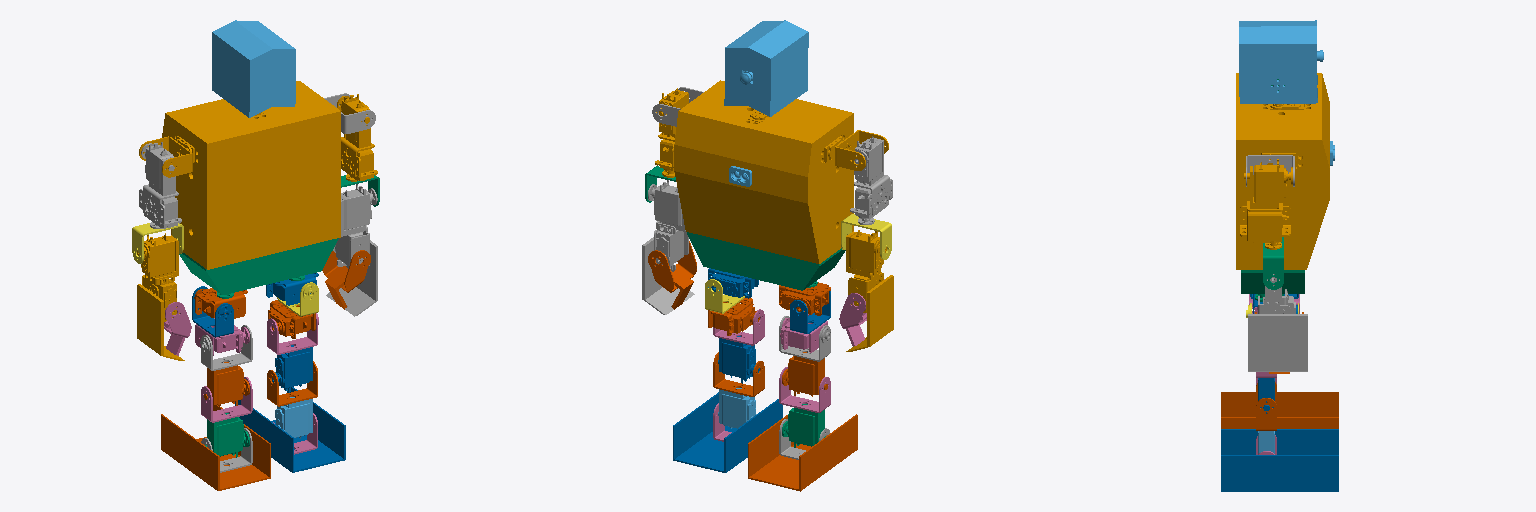
--- Render facts (derived) ---
3 views of the same robot in one strip: view 1: azimuth 30°, elevation 25°; view 2: azimuth 150°, elevation 25°; view 3: azimuth 270°, elevation 25° (orthographic).
Model rmis with 49 links and 48 joints (22 revolute, 26 fixed), rooted at base_link, posed every joint at zero.
Links seen in each view (by area): view 1: base_link, camera_link, lower_body_link, l_lower_arm_link, l_feet_link, r_lower_arm_link, r_feet_link, l_lower_shoulder_link, r_lower_shoulder_upper_link, r_hand_link, l_lower_leg_inner_link, r_lower_leg_inner_link (+17 smaller); view 2: base_link, camera_link, l_feet_link, r_feet_link, lower_body_link, l_lower_arm_link, r_lower_arm_link, l_lower_shoulder_link, r_hand_link, l_lower_leg_inner_link, l_upper_ankle_link, r_lower_leg_inner_link (+16 smaller); view 3: base_link, r_feet_link, camera_link, r_lower_arm_link, l_feet_link, r_lower_shoulder_upper_link, lower_body_link, r_upper_arm_link, r_lower_leg_outer_link, r_upper_shoulder_link.
Link boxes in pixels (left/top/right/bottom): base_link: left=162, top=81, right=340, bottom=269; camera_link: left=212, top=20, right=295, bottom=117; lower_body_link: left=179, top=238, right=338, bottom=298; l_lower_arm_link: left=137, top=233, right=184, bottom=360; l_feet_link: left=161, top=405, right=270, bottom=490; r_lower_arm_link: left=326, top=184, right=377, bottom=316; r_feet_link: left=235, top=387, right=345, bottom=472; l_lower_shoulder_link: left=139, top=142, right=181, bottom=228; r_lower_shoulder_upper_link: left=337, top=94, right=377, bottom=181; r_hand_link: left=322, top=250, right=370, bottom=309; l_lower_leg_inner_link: left=204, top=362, right=249, bottom=406; r_lower_leg_inner_link: left=272, top=345, right=312, bottom=392; base_link: left=674, top=80, right=853, bottom=263; camera_link: left=724, top=20, right=808, bottom=116; l_feet_link: left=748, top=414, right=857, bottom=491; r_feet_link: left=673, top=392, right=782, bottom=472; lower_body_link: left=687, top=232, right=845, bottom=290; l_lower_arm_link: left=846, top=230, right=893, bottom=351; r_lower_arm_link: left=642, top=180, right=694, bottom=314; l_lower_shoulder_link: left=850, top=136, right=892, bottom=224; r_hand_link: left=648, top=241, right=696, bottom=309; l_lower_leg_inner_link: left=782, top=352, right=827, bottom=396; l_upper_ankle_link: left=782, top=404, right=825, bottom=447; r_lower_leg_inner_link: left=718, top=336, right=759, bottom=383; base_link: left=1236, top=73, right=1329, bottom=269; r_feet_link: left=1221, top=429, right=1338, bottom=491; camera_link: left=1239, top=20, right=1323, bottom=103; r_lower_arm_link: left=1248, top=274, right=1307, bottom=371; l_feet_link: left=1221, top=392, right=1338, bottom=428; r_lower_shoulder_upper_link: left=1240, top=159, right=1292, bottom=249; lower_body_link: left=1241, top=270, right=1304, bottom=301; r_upper_arm_link: left=1263, top=237, right=1283, bottom=289; r_lower_leg_outer_link: left=1256, top=382, right=1276, bottom=430; r_upper_shoulder_link: left=1246, top=155, right=1294, bottom=186.
Bounding box of the posed robot: 3.22 × 1.35 × 5.47 m (x, y, z).
Meshes: 34 distinct files referenced, 34 mesh visuals loaded (34 binary STL).

robot.urdf — rmis:
<robot name="rmis" version="1.0">
  <joint name="camera_link_joint" type="fixed">
    <origin rpy="0.00000 0.00000 1.57080" xyz="-0.00027 0.51877 -0.01898"/>
    <parent link="head_outer_link"/>
    <child link="camera_link"/>
  </joint>
  <joint name="head_inner_link_joint" type="revolute">
    <dynamics damping="0.50000"/>
    <limit lower="-0.40000" upper="0.40000" effort="1.20000" velocity="1.00000"/>
    <origin rpy="-1.57080 -1.57080 1.57080" xyz="-0.53928 0.10308 0.14213"/>
    <parent link="neck_link"/>
    <child link="head_inner_link"/>
    <axis xyz="0.00000 0.00000 1.00000"/>
  </joint>
  <joint name="head_outer_link_joint" type="fixed">
    <origin rpy="1.57080 1.57080 1.57080" xyz="0.24166 -0.01105 -0.24237"/>
    <parent link="head_inner_link"/>
    <child link="head_outer_link"/>
  </joint>
  <joint name="imu_link_joint" type="fixed">
    <origin rpy="0.00000 0.00000 1.57080" xyz="0.21039 -0.34355 -1.01118"/>
    <parent link="base_link"/>
    <child link="imu_link"/>
  </joint>
  <joint name="l_feet_link_joint" type="fixed">
    <origin rpy="-1.57080 -1.57080 1.57080" xyz="0.29534 0.15614 -0.36302"/>
    <parent link="l_lower_ankle_link"/>
    <child link="l_feet_link"/>
  </joint>
  <joint name="l_hand_link_joint" type="fixed">
    <origin rpy="-1.57080 0.00000 -0.00000" xyz="0.08578 -0.25941 -0.27318"/>
    <parent link="l_lower_arm_lower_link"/>
    <child link="l_hand_link"/>
  </joint>
  <joint name="l_lower_ankle_link_joint" type="revolute">
    <dynamics damping="0.50000"/>
    <limit lower="-0.30000" upper="0.65000" effort="1.20000" velocity="1.00000"/>
    <origin rpy="0.00000 1.57080 0.00000" xyz="0.25524 0.00032 -0.17729"/>
    <parent link="l_upper_ankle_link"/>
    <child link="l_lower_ankle_link"/>
    <axis xyz="0.00000 0.00000 1.00000"/>
  </joint>
  <joint name="l_lower_arm_link_joint" type="fixed">
    <origin rpy="1.57080 1.57080 1.57080" xyz="-0.51082 -0.04756 -0.25313"/>
    <parent link="l_lower_arm_upper_link"/>
    <child link="l_lower_arm_link"/>
  </joint>
  <joint name="l_lower_arm_lower_link_joint" type="revolute">
    <dynamics damping="0.10000"/>
    <limit lower="0.00000" upper="0.65000" effort="1.20000" velocity="0.00000"/>
    <origin rpy="1.57080 -0.00000 0.00000" xyz="0.02708 -0.30471 -0.17737"/>
    <parent link="l_lower_arm_link"/>
    <child link="l_lower_arm_lower_link"/>
    <axis xyz="0.00000 0.00000 1.00000"/>
  </joint>
  <joint name="l_lower_arm_upper_link_joint" type="revolute">
    <dynamics damping="0.50000"/>
    <limit lower="-1.57000" upper="1.57000" effort="1.20000" velocity="1.00000"/>
    <origin rpy="-1.57080 -1.57080 0.00000" xyz="0.00000 0.40875 -0.26539"/>
    <parent link="l_upper_arm_link"/>
    <child link="l_lower_arm_upper_link"/>
    <axis xyz="0.00000 0.00000 1.00000"/>
  </joint>
  <joint name="l_lower_body_link_joint" type="revolute">
    <dynamics damping="0.50000"/>
    <limit lower="-0.30000" upper="0.30000" effort="1.20000" velocity="1.00000"/>
    <origin rpy="3.14159 -0.00000 3.14159" xyz="-0.43474 -0.11124 -0.22114"/>
    <parent link="lower_body_link"/>
    <child link="l_lower_body_link"/>
    <axis xyz="0.00000 0.00000 1.00000"/>
  </joint>
  <joint name="l_lower_hip_link_joint" type="revolute">
    <dynamics damping="0.50000"/>
    <limit lower="0.00000" upper="0.65000" effort="1.20000" velocity="1.00000"/>
    <origin rpy="-1.57080 0.00000 0.00000" xyz="-0.17610 0.18793 -0.02809"/>
    <parent link="l_upper_hip_link"/>
    <child link="l_lower_hip_link"/>
    <axis xyz="0.00000 0.00000 1.00000"/>
  </joint>
  <joint name="l_lower_leg_inner_link_joint" type="fixed">
    <origin rpy="-1.57080 -1.57080 1.57080" xyz="0.48106 -0.00032 -0.25524"/>
    <parent link="l_upper_leg_outer_link"/>
    <child link="l_lower_leg_inner_link"/>
  </joint>
  <joint name="l_lower_leg_outer_link_joint" type="revolute">
    <dynamics damping="0.50000"/>
    <limit lower="-1.57000" upper="1.57000" effort="1.20000" velocity="1.00000"/>
    <origin rpy="1.57080 1.57080 1.57080" xyz="0.25524 0.00032 -0.18870"/>
    <parent link="l_lower_leg_inner_link"/>
    <child link="l_lower_leg_outer_link"/>
    <axis xyz="0.00000 0.00000 1.00000"/>
  </joint>
  <joint name="l_lower_shoulder_link_joint" type="fixed">
    <origin rpy="1.57080 -0.00000 -0.00000" xyz="0.01024 0.62216 -0.27345"/>
    <parent link="l_lower_shoulder_upper_link"/>
    <child link="l_lower_shoulder_link"/>
  </joint>
  <joint name="l_lower_shoulder_lower_link_joint" type="revolute">
    <dynamics damping="0.50000"/>
    <limit lower="-1.57000" upper="1.57000" effort="1.20000" velocity="1.00000"/>
    <origin rpy="-3.14159 -0.00000 3.14159" xyz="-0.00763 0.06271 -0.24482"/>
    <parent link="l_lower_shoulder_link"/>
    <child link="l_lower_shoulder_lower_link"/>
    <axis xyz="0.00000 0.00000 1.00000"/>
  </joint>
  <joint name="l_lower_shoulder_upper_link_joint" type="revolute">
    <dynamics damping="0.50000"/>
    <limit lower="0.00000" upper="1.57000" effort="1.20000" velocity="1.00000"/>
    <origin rpy="-1.57080 0.00000 -0.00000" xyz="-0.15786 0.25015 0.00000"/>
    <parent link="l_upper_shoulder_link"/>
    <child link="l_lower_shoulder_upper_link"/>
    <axis xyz="0.00000 0.00000 1.00000"/>
  </joint>
  <joint name="l_upper_ankle_link_joint" type="fixed">
    <origin rpy="1.57079 -1.57080 -1.57080" xyz="0.49218 -0.00032 -0.25524"/>
    <parent link="l_lower_leg_outer_link"/>
    <child link="l_upper_ankle_link"/>
  </joint>
  <joint name="l_upper_arm_link_joint" type="fixed">
    <dynamics damping="0.10000"/>
    <origin rpy="3.14159 0.00000 1.57080" xyz="-0.15525 0.00109 0.04879"/>
    <parent link="l_lower_shoulder_lower_link"/>
    <child link="l_upper_arm_link"/>
  </joint>
  <joint name="l_upper_body_link_joint" type="revolute">
    <dynamics damping="0.50000"/>
    <limit lower="-2.00000" upper="2.00000" effort="1.20000" velocity="1.00000"/>
    <origin rpy="0.00000 -1.57080 0.00000" xyz="-1.02542 -0.10845 0.50152"/>
    <parent link="base_link"/>
    <child link="l_upper_body_link"/>
    <axis xyz="0.00000 0.00000 1.00000"/>
  </joint>
  <joint name="l_upper_hip_link_joint" type="fixed">
    <origin rpy="-3.14159 0.00000 3.14159" xyz="-0.08125 0.19501 0.16258"/>
    <parent link="l_lower_body_link"/>
    <child link="l_upper_hip_link"/>
  </joint>
  <joint name="l_upper_leg_inner_link_joint" type="fixed">
    <origin rpy="1.57080 0.00000 -0.00000" xyz="0.23325 0.42698 -0.25846"/>
    <parent link="l_lower_hip_link"/>
    <child link="l_upper_leg_inner_link"/>
  </joint>
  <joint name="l_upper_leg_outer_link_joint" type="revolute">
    <dynamics damping="0.50000"/>
    <limit lower="-1.57000" upper="1.57000" effort="1.20000" velocity="1.00000"/>
    <origin rpy="0.00000 1.57080 0.00000" xyz="0.14920 -0.09581 -0.02392"/>
    <parent link="l_upper_leg_inner_link"/>
    <child link="l_upper_leg_outer_link"/>
    <axis xyz="0.00000 0.00000 1.00000"/>
  </joint>
  <joint name="l_upper_shoulder_link_joint" type="fixed">
    <dynamics damping="0.10000"/>
    <origin rpy="1.64773 1.57080 1.64773" xyz="0.00314 0.00023 0.15035"/>
    <parent link="l_upper_body_link"/>
    <child link="l_upper_shoulder_link"/>
  </joint>
  <joint name="lidar_link_joint" type="fixed">
    <origin rpy="0.00000 0.00000 0.00000" xyz="0.15210 0.54325 0.16884"/>
    <parent link="base_link"/>
    <child link="lidar_link"/>
  </joint>
  <joint name="lower_body_link_joint" type="fixed">
    <origin rpy="-0.00000 -0.00000 0.00000" xyz="-0.04942 -0.07242 -1.16532"/>
    <parent link="base_link"/>
    <child link="lower_body_link"/>
  </joint>
  <joint name="neck_link_joint" type="fixed">
    <origin rpy="0.00000 0.00000 0.00000" xyz="0.29394 -0.10231 0.17455"/>
    <parent link="u_upper_body_link"/>
    <child link="neck_link"/>
  </joint>
  <joint name="r_feet_link_joint" type="fixed">
    <origin rpy="1.57080 1.57080 1.57080" xyz="-0.29184 0.16032 -0.38614"/>
    <parent link="r_lower_ankle_link"/>
    <child link="r_feet_link"/>
  </joint>
  <joint name="r_hand_link_joint" type="fixed">
    <origin rpy="1.57080 -0.00000 -0.00000" xyz="-0.09662 0.29431 -0.27653"/>
    <parent link="r_lower_arm_lower_link"/>
    <child link="r_hand_link"/>
  </joint>
  <joint name="r_lower_ankle_link_joint" type="revolute">
    <dynamics damping="0.50000"/>
    <limit lower="-0.65000" upper="0.30000" effort="1.20000" velocity="1.00000"/>
    <origin rpy="-0.00000 -1.57080 0.00000" xyz="-0.28932 -0.00553 -0.08191"/>
    <parent link="r_upper_ankle_link"/>
    <child link="r_lower_ankle_link"/>
    <axis xyz="0.00000 0.00000 1.00000"/>
  </joint>
  <joint name="r_lower_arm_link_joint" type="fixed">
    <origin rpy="-1.57080 -1.57080 1.57080" xyz="0.57212 0.03274 -0.28788"/>
    <parent link="r_lower_arm_upper_link"/>
    <child link="r_lower_arm_link"/>
  </joint>
  <joint name="r_lower_arm_lower_link_joint" type="revolute">
    <dynamics damping="0.50000"/>
    <limit lower="0.00000" upper="0.65000" effort="1.20000" velocity="1.00000"/>
    <origin rpy="-1.57080 -0.00000 0.00000" xyz="-0.00892 0.31225 -0.11501"/>
    <parent link="r_lower_arm_link"/>
    <child link="r_lower_arm_lower_link"/>
    <axis xyz="0.00000 0.00000 1.00000"/>
  </joint>
  <joint name="r_lower_arm_upper_link_joint" type="revolute">
    <dynamics damping="0.50000"/>
    <limit lower="-1.57000" upper="1.57000" effort="1.20000" velocity="1.00000"/>
    <origin rpy="0.00000 1.57080 0.00000" xyz="0.42891 0.03944 -0.18506"/>
    <parent link="r_upper_arm_link"/>
    <child link="r_lower_arm_upper_link"/>
    <axis xyz="0.00000 0.00000 1.00000"/>
  </joint>
  <joint name="r_lower_body_link_joint" type="revolute">
    <dynamics damping="0.50000"/>
    <limit lower="-0.30000" upper="0.30000" effort="1.20000" velocity="1.00000"/>
    <origin rpy="3.14159 -0.00000 3.14159" xyz="0.53339 -0.11124 -0.22114"/>
    <parent link="lower_body_link"/>
    <child link="r_lower_body_link"/>
    <axis xyz="0.00000 0.00000 1.00000"/>
  </joint>
  <joint name="r_lower_hip_link_joint" type="revolute">
    <dynamics damping="0.50000"/>
    <limit lower="-0.65000" upper="0.00000" effort="1.20000" velocity="1.00000"/>
    <origin rpy="-1.57080 0.00000 -0.00000" xyz="0.09774 0.24708 -0.04110"/>
    <parent link="r_upper_hip_link"/>
    <child link="r_lower_hip_link"/>
    <axis xyz="0.00000 0.00000 1.00000"/>
  </joint>
  <joint name="r_lower_leg_inner_link_joint" type="fixed">
    <origin rpy="-1.57079 1.57080 -1.57080" xyz="-0.50982 0.00553 -0.28932"/>
    <parent link="r_upper_leg_outer_link"/>
    <child link="r_lower_leg_inner_link"/>
  </joint>
  <joint name="r_lower_leg_outer_link_joint" type="revolute">
    <dynamics damping="0.50000"/>
    <limit lower="-1.57000" upper="1.57000" effort="1.20000" velocity="1.00000"/>
    <origin rpy="-0.00000 -1.57080 0.00000" xyz="-0.28933 -0.00553 -0.15922"/>
    <parent link="r_lower_leg_inner_link"/>
    <child link="r_lower_leg_outer_link"/>
    <axis xyz="0.00000 0.00000 1.00000"/>
  </joint>
  <joint name="r_lower_shoulder_link_joint" type="fixed">
    <origin rpy="1.57080 0.00000 0.00000" xyz="0.01117 0.47331 -0.27353"/>
    <parent link="r_lower_shoulder_upper_link"/>
    <child link="r_lower_shoulder_link"/>
  </joint>
  <joint name="r_lower_shoulder_lower_link_joint" type="revolute">
    <dynamics damping="0.50000"/>
    <limit lower="-1.57000" upper="1.57000" effort="1.20000" velocity="1.00000"/>
    <origin rpy="-3.14159 -0.00000 3.14159" xyz="-0.00476 0.06341 -0.39192"/>
    <parent link="r_lower_shoulder_link"/>
    <child link="r_lower_shoulder_lower_link"/>
    <axis xyz="0.00000 0.00000 1.00000"/>
  </joint>
  <joint name="r_lower_shoulder_upper_link_joint" type="revolute">
    <dynamics damping="0.50000"/>
    <limit lower="-1.57000" upper="0.00000" effort="1.20000" velocity="1.00000"/>
    <origin rpy="-1.57080 0.00000 0.00000" xyz="0.14724 0.25015 -0.00175"/>
    <parent link="r_upper_shoulder_link"/>
    <child link="r_lower_shoulder_upper_link"/>
    <axis xyz="0.00000 0.00000 1.00000"/>
  </joint>
  <joint name="r_upper_ankle_link_joint" type="fixed">
    <origin rpy="1.57080 1.57080 1.57080" xyz="-0.58812 0.00553 -0.28932"/>
    <parent link="r_lower_leg_outer_link"/>
    <child link="r_upper_ankle_link"/>
  </joint>
  <joint name="r_upper_arm_link_joint" type="fixed">
    <origin rpy="-3.14159 0.00000 3.14159" xyz="0.15365 -0.04003 0.13018"/>
    <parent link="r_lower_shoulder_lower_link"/>
    <child link="r_upper_arm_link"/>
  </joint>
  <joint name="r_upper_body_link_joint" type="revolute">
    <dynamics damping="0.50000"/>
    <limit lower="-2.00000" upper="2.00000" effort="1.20000" velocity="1.00000"/>
    <origin rpy="-0.00000 1.57080 0.00000" xyz="1.02542 -0.10845 0.50152"/>
    <parent link="base_link"/>
    <child link="r_upper_body_link"/>
    <axis xyz="0.00000 0.00000 1.00000"/>
  </joint>
  <joint name="r_upper_hip_link_joint" type="fixed">
    <origin rpy="3.14159 0.00000 3.14159" xyz="0.00270 0.13586 0.14958"/>
    <parent link="r_lower_body_link"/>
    <child link="r_upper_hip_link"/>
  </joint>
  <joint name="r_upper_leg_inner_link_joint" type="fixed">
    <origin rpy="1.57080 -0.00000 0.00000" xyz="-0.22671 0.44776 -0.24837"/>
    <parent link="r_lower_hip_link"/>
    <child link="r_upper_leg_inner_link"/>
  </joint>
  <joint name="r_upper_leg_outer_link_joint" type="revolute">
    <dynamics damping="0.50000"/>
    <limit lower="-1.57000" upper="1.57000" effort="1.20000" velocity="1.00000"/>
    <origin rpy="-1.57079 -1.57080 1.57079" xyz="-0.15574 -0.10590 -0.00315"/>
    <parent link="r_upper_leg_inner_link"/>
    <child link="r_upper_leg_outer_link"/>
    <axis xyz="0.00000 0.00000 1.00000"/>
  </joint>
  <joint name="r_upper_shoulder_link_joint" type="fixed">
    <origin rpy="-1.57080 -1.57080 1.57080" xyz="-0.00313 0.00023 0.15034"/>
    <parent link="r_upper_body_link"/>
    <child link="r_upper_shoulder_link"/>
  </joint>
  <joint name="u_upper_body_link_joint" type="revolute">
    <dynamics damping="0.50000"/>
    <limit lower="-3.14000" upper="3.14000" effort="1.20000" velocity="1.00000"/>
    <origin rpy="0.00000 0.00000 0.00000" xyz="-0.00039 -0.01857 0.85581"/>
    <parent link="base_link"/>
    <child link="u_upper_body_link"/>
    <axis xyz="0.00000 0.00000 1.00000"/>
  </joint>
  <link name="base_link">
    <collision name="base_collision">
      <origin rpy="0.00000 0.00000 -0.00000" xyz="-0.15389 -0.00000 -0.00001"/>
      <geometry>
        <mesh filename="package://rmis/meshes/stl/base.stl" scale="0.10000 0.10000 0.10000"/>
      </geometry>
    </collision>
    <inertial>
      <inertia ixx="3.80664" ixy="0.00010" ixz="-0.11562" iyy="2.86595" iyz="0.00147" izz="1.72824"/>
      <origin rpy="0.00000 0.00000 0.00000" xyz="-0.00284 -0.01176 0.03521"/>
      <mass value="0.05000"/>
    </inertial>
    <visual name="base">
      <origin rpy="0.00000 0.00000 0.00000" xyz="-0.15389 -0.00000 -0.00001"/>
      <geometry>
        <mesh filename="package://rmis/meshes/stl/base.stl" scale="0.10000 0.10000 0.10000"/>
      </geometry>
    </visual>
  </link>
  <link name="camera_link">
    <sensor name="rasp_cam" type="camera">
      <origin rpy="-0.00000 1.57080 0.00000" xyz="0.02942 -0.00000 0.00000"/>
      <parent link="camera_link"/>
      <camera>
        <image>
          <width>3280</width>
          <height>2464</height>
          <hfov>1.57080</hfov>
        </image>
      </camera>
    </sensor>
    <inertial>
      <inertia ixx="0.35611" ixy="0.08645" ixz="0.03018" iyy="1.36268" iyz="-0.00299" izz="1.33173"/>
      <origin rpy="0.00000 0.00000 0.00000" xyz="-5.04919 -0.00283 0.18436"/>
      <mass value="0.05000"/>
    </inertial>
    <visual name="head_outer">
      <origin rpy="0.00000 0.00000 -1.57080" xyz="-0.51877 -0.00027 0.01898"/>
      <geometry>
        <mesh filename="package://rmis/meshes/stl/head_joint.stl" scale="0.10000 0.10000 0.10000"/>
      </geometry>
    </visual>
  </link>
  <link name="head_inner_link">
    <inertial>
      <inertia ixx="0.18266" ixy="0.01279" ixz="0.00147" iyy="0.09287" iyz="0.00504" izz="0.14329"/>
      <origin rpy="0.00000 0.00000 0.00000" xyz="0.86758 -0.32559 -2.66080"/>
      <mass value="0.05000"/>
    </inertial>
    <visual name="head_inner">
      <origin rpy="1.57080 1.57080 1.57080" xyz="0.10230 0.02942 -0.18450"/>
      <geometry>
        <mesh filename="package://rmis/meshes/stl/head_link.stl" scale="0.10000 0.10000 0.10000"/>
      </geometry>
    </visual>
  </link>
  <link name="head_outer_link">
    <collision name="head_outer_collision">
      <origin rpy="-0.00000 0.00000 -0.00000" xyz="0.00000 0.00000 -0.00000"/>
      <geometry>
        <mesh filename="package://rmis/meshes/stl/head_joint.stl" scale="0.10000 0.10000 0.10000"/>
      </geometry>
    </collision>
  </link>
  <link name="imu_link">
    <inertial>
      <inertia ixx="0.03333" ixy="0.00000" ixz="0.00000" iyy="0.01817" iyz="0.00000" izz="0.01817"/>
      <origin rpy="0.00000 0.00000 0.00000" xyz="-0.00000 2.30103 0.00000"/>
      <mass value="0.05000"/>
    </inertial>
    <visual name="imu">
      <origin rpy="0.00000 0.00000 0.00000" xyz="-0.00000 0.23010 0.00000"/>
      <geometry>
        <box size="0.06000 0.20000 0.20000"/>
      </geometry>
    </visual>
  </link>
  <link name="l_feet_link">
    <collision name="l_feet_collision">
      <origin rpy="-0.00000 0.00000 -0.00000" xyz="0.05376 -0.00000 0.11108"/>
      <geometry>
        <mesh filename="package://rmis/meshes/stl/l_feet_link.stl" scale="0.10000 0.10000 0.10000"/>
      </geometry>
    </collision>
    <inertial>
      <inertia ixx="0.37179" ixy="-0.00718" ixz="-0.00237" iyy="0.56463" iyz="0.00152" izz="0.80037"/>
      <origin rpy="0.00000 0.00000 0.00000" xyz="0.53756 -0.00000 1.09638"/>
      <mass value="0.05000"/>
    </inertial>
    <visual name="l_feet">
      <origin rpy="-0.00000 0.00000 -0.00000" xyz="0.05376 -0.00000 0.11108"/>
      <geometry>
        <mesh filename="package://rmis/meshes/stl/l_feet_link.stl" scale="0.10000 0.10000 0.10000"/>
      </geometry>
    </visual>
  </link>
  <link name="l_hand_link">
    <collision name="l_hand_collision">
      <origin rpy="0.00000 -0.00000 -0.00000" xyz="0.00000 -0.00000 -0.00000"/>
      <geometry>
        <mesh filename="package://rmis/meshes/stl/l_hand_joint.stl" scale="0.10000 0.10000 0.10000"/>
      </geometry>
    </collision>
    <inertial>
      <inertia ixx="0.21883" ixy="-0.00006" ixz="-0.00033" iyy="0.30895" iyz="-0.06146" izz="0.17061"/>
      <origin rpy="0.00000 0.00000 0.00000" xyz="0.14961 -0.00247 -0.33393"/>
      <mass value="0.05000"/>
    </inertial>
    <visual name="l_hand">
      <origin rpy="0.00000 -0.00000 0.00000" xyz="-0.00000 -0.00000 -0.00000"/>
      <geometry>
        <mesh filename="package://rmis/meshes/stl/l_hand_joint.stl" scale="0.10000 0.10000 0.10000"/>
      </geometry>
    </visual>
  </link>
  <link name="l_lower_ankle_link">
    <collision name="l_lower_ankle_collision">
      <origin rpy="-0.00000 -1.57080 0.00000" xyz="0.18108 0.00135 -0.25027"/>
      <geometry>
        <mesh filename="package://rmis/meshes/stl/l_ankle_joint.stl" scale="0.10000 0.10000 0.10000"/>
      </geometry>
    </collision>
    <inertial>
      <inertia ixx="0.23547" ixy="0.00000" ixz="0.00000" iyy="0.07973" iyz="-0.00003" izz="0.18690"/>
      <origin rpy="0.00000 0.00000 0.00000" xyz="1.81079 0.01345 -2.50269"/>
      <mass value="0.05000"/>
    </inertial>
    <visual name="l_lower_ankle">
      <origin rpy="-1.32582 -1.57080 1.32582" xyz="0.18108 0.00135 -0.25027"/>
      <geometry>
        <mesh filename="package://rmis/meshes/stl/l_ankle_joint.stl" scale="0.10000 0.10000 0.10000"/>
      </geometry>
    </visual>
  </link>
  <link name="l_lower_arm_link">
    <collision name="l_lower_arm_collision">
      <origin rpy="-0.00000 -0.00000 0.00000" xyz="-0.02780 -0.00000 -0.03897"/>
      <geometry>
        <mesh filename="package://rmis/meshes/stl/l_arm_link.stl" scale="0.10000 0.10000 0.10000"/>
      </geometry>
    </collision>
    <inertial>
      <inertia ixx="0.94985" ixy="0.01403" ixz="-0.02205" iyy="0.96144" iyz="-0.03505" izz="0.14266"/>
      <origin rpy="0.00000 0.00000 0.00000" xyz="-0.27813 -0.00006 -0.39048"/>
      <mass value="0.05000"/>
    </inertial>
    <visual name="l_lower_arm">
      <origin rpy="-0.00000 0.00000 0.00000" xyz="-0.02780 0.00000 -0.03897"/>
      <geometry>
        <mesh filename="package://rmis/meshes/stl/l_arm_link.stl" scale="0.10000 0.10000 0.10000"/>
      </geometry>
    </visual>
  </link>
  <link name="l_lower_arm_lower_link"/>
  <link name="l_lower_arm_upper_link"/>
  <link name="l_lower_body_link"/>
  <link name="l_lower_hip_link">
    <collision name="l_lower_hip_collision">
      <origin rpy="1.57080 0.00000 -0.00000" xyz="0.00102 0.20500 -0.21627"/>
      <geometry>
        <mesh filename="package://rmis/meshes/stl/l_hip_joint.stl" scale="0.10000 0.10000 0.10000"/>
      </geometry>
    </collision>
    <inertial>
      <inertia ixx="0.09091" ixy="0.00004" ixz="0.03172" iyy="0.28233" iyz="-0.00003" izz="0.22135"/>
      <origin rpy="0.00000 0.00000 0.00000" xyz="0.01024 2.04998 -2.16272"/>
      <mass value="0.05000"/>
    </inertial>
    <visual name="l_lower_hip">
      <origin rpy="1.57080 0.00000 -0.00000" xyz="0.00102 0.20500 -0.21627"/>
      <geometry>
        <mesh filename="package://rmis/meshes/stl/l_hip_joint.stl" scale="0.10000 0.10000 0.10000"/>
      </geometry>
    </visual>
  </link>
  <link name="l_lower_leg_inner_link">
    <collision name="l_lower_leg_inner_collision">
      <origin rpy="0.00000 -0.00000 0.00000" xyz="0.00000 -0.00000 -0.05855"/>
      <geometry>
        <mesh filename="package://rmis/meshes/stl/l_lower_leg_link.stl" scale="0.10000 0.10000 0.10000"/>
      </geometry>
    </collision>
    <inertial>
      <inertia ixx="0.36405" ixy="-0.00120" ixz="-0.00013" iyy="0.09410" iyz="-0.04544" izz="0.29049"/>
      <origin rpy="0.00000 0.00000 0.00000" xyz="-0.06622 -0.00438 -0.63853"/>
      <mass value="0.05000"/>
    </inertial>
    <visual name="l_lower_leg_inner">
      <origin rpy="-0.00000 0.00000 0.00000" xyz="0.00000 0.00000 -0.05855"/>
      <geometry>
        <mesh filename="package://rmis/meshes/stl/l_lower_leg_link.stl" scale="0.10000 0.10000 0.10000"/>
      </geometry>
    </visual>
  </link>
  <link name="l_lower_leg_outer_link">
    <collision name="l_lower_leg_outer_collision">
      <origin rpy="1.57080 -1.57080 -1.57080" xyz="0.18053 0.00135 -0.25027"/>
      <geometry>
        <mesh filename="package://rmis/meshes/stl/l_lower_leg_joint.stl" scale="0.10000 0.10000 0.10000"/>
      </geometry>
    </collision>
    <inertial>
      <inertia ixx="0.23547" ixy="0.00000" ixz="0.00000" iyy="0.07973" iyz="0.00003" izz="0.18690"/>
      <origin rpy="0.00000 0.00000 0.00000" xyz="1.80531 0.01345 -2.50267"/>
      <mass value="0.05000"/>
    </inertial>
    <visual name="l_lower_leg_outer">
      <origin rpy="-1.57080 -1.57080 1.57080" xyz="0.18053 0.00135 -0.25027"/>
      <geometry>
        <mesh filename="package://rmis/meshes/stl/l_lower_leg_joint.stl" scale="0.10000 0.10000 0.10000"/>
      </geometry>
    </visual>
  </link>
  <link name="l_lower_shoulder_link">
    <collision name="l_lower_shoulder_collision">
      <origin rpy="-0.00000 0.00000 -0.00000" xyz="0.00000 -0.00000 0.27292"/>
      <geometry>
        <mesh filename="package://rmis/meshes/stl/l_shoulder_link.stl" scale="0.10000 0.10000 0.10000"/>
      </geometry>
    </collision>
    <inertial>
      <inertia ixx="0.39919" ixy="-0.00420" ixz="-0.00291" iyy="0.46649" iyz="0.02087" izz="0.10478"/>
      <origin rpy="0.00000 0.00000 0.00000" xyz="-0.24312 -0.09091 2.35092"/>
      <mass value="0.05000"/>
    </inertial>
    <visual name="l_lower_shoulder">
      <origin rpy="-0.00000 0.00000 0.00000" xyz="0.00000 -0.00000 0.27291"/>
      <geometry>
        <mesh filename="package://rmis/meshes/stl/l_shoulder_link.stl" scale="0.10000 0.10000 0.10000"/>
      </geometry>
    </visual>
  </link>
  <link name="l_lower_shoulder_lower_link"/>
  <link name="l_lower_shoulder_upper_link"/>
  <link name="l_upper_ankle_link">
    <collision name="l_upper_ankle_collision">
      <origin rpy="-0.00000 -0.00000 -0.00000" xyz="0.00000 -0.00000 -0.04767"/>
      <geometry>
        <mesh filename="package://rmis/meshes/stl/l_ankle_link.stl" scale="0.10000 0.10000 0.10000"/>
      </geometry>
    </collision>
    <inertial>
      <inertia ixx="0.36405" ixy="-0.00120" ixz="-0.00013" iyy="0.09410" iyz="-0.04544" izz="0.29049"/>
      <origin rpy="0.00000 0.00000 0.00000" xyz="-0.06622 -0.00438 -0.52971"/>
      <mass value="0.05000"/>
    </inertial>
    <visual name="l_upper_ankle">
      <origin rpy="-0.00000 0.00000 -0.00000" xyz="0.00000 -0.00000 -0.04767"/>
      <geometry>
        <mesh filename="package://rmis/meshes/stl/l_ankle_link.stl" scale="0.10000 0.10000 0.10000"/>
      </geometry>
    </visual>
  </link>
  <link name="l_upper_arm_link">
    <collision name="l_upper_arm_collision">
      <origin rpy="-0.00000 -0.00000 -1.57080" xyz="0.00047 0.15536 -0.08502"/>
      <geometry>
        <mesh filename="package://rmis/meshes/stl/l_arm_joint.stl" scale="0.10000 0.10000 0.10000"/>
      </geometry>
    </collision>
    <inertial>
      <inertia ixx="0.23547" ixy="0.00000" ixz="-0.00000" iyy="0.07973" iyz="-0.00003" izz="0.18690"/>
      <origin rpy="0.00000 0.00000 0.00000" xyz="0.00474 1.55361 -0.85025"/>
      <mass value="0.05000"/>
    </inertial>
    <visual name="l_upper_arm">
      <origin rpy="-0.00000 0.00000 -1.57080" xyz="0.00047 0.15536 -0.08502"/>
      <geometry>
        <mesh filename="package://rmis/meshes/stl/l_arm_joint.stl" scale="0.10000 0.10000 0.10000"/>
      </geometry>
    </visual>
  </link>
  <link name="l_upper_body_link"/>
  <link name="l_upper_hip_link">
    <collision name="l_upper_hip_collision">
      <origin rpy="-0.00000 -0.00000 -0.00000" xyz="-0.07415 0.00000 -0.05783"/>
      <geometry>
        <mesh filename="package://rmis/meshes/stl/l_hip_link.stl" scale="0.10000 0.10000 0.10000"/>
      </geometry>
    </collision>
    <inertial>
      <inertia ixx="0.09287" ixy="-0.00504" ixz="-0.01279" iyy="0.14329" iyz="0.00147" izz="0.18266"/>
      <origin rpy="0.00000 0.00000 0.00000" xyz="-0.89692 -0.81581 0.04150"/>
      <mass value="0.05000"/>
    </inertial>
    <visual name="l_upper_hip">
      <origin rpy="0.00000 0.00000 0.00000" xyz="-0.07415 0.00000 -0.05783"/>
      <geometry>
        <mesh filename="package://rmis/meshes/stl/l_hip_link.stl" scale="0.10000 0.10000 0.10000"/>
      </geometry>
    </visual>
  </link>
  <link name="l_upper_leg_inner_link">
    <collision name="l_upper_leg_inner_collision">
      <origin rpy="-0.00000 -0.00000 -0.00000" xyz="-0.09287 0.00000 -0.01054"/>
      <geometry>
        <mesh filename="package://rmis/meshes/stl/l_upper_leg_link.stl" scale="0.10000 0.10000 0.10000"/>
      </geometry>
    </collision>
    <inertial>
      <inertia ixx="0.14374" ixy="-0.00539" ixz="-0.00179" iyy="0.09294" iyz="0.01231" izz="0.18306"/>
      <origin rpy="0.00000 0.00000 0.00000" xyz="-1.15800 -0.07651 0.08443"/>
      <mass value="0.05000"/>
    </inertial>
    <visual name="l_upper_leg_inner">
      <origin rpy="0.00000 0.00000 0.00000" xyz="-0.09287 0.00000 -0.01054"/>
      <geometry>
        <mesh filename="package://rmis/meshes/stl/l_upper_leg_link.stl" scale="0.10000 0.10000 0.10000"/>
      </geometry>
    </visual>
  </link>
  <link name="l_upper_leg_outer_link">
    <collision name="l_upper_leg_outer_collision">
      <origin rpy="-0.00000 -1.57080 0.00000" xyz="0.20410 0.00161 -0.21135"/>
      <geometry>
        <mesh filename="package://rmis/meshes/stl/l_upper_leg_joint.stl" scale="0.10000 0.10000 0.10000"/>
      </geometry>
    </collision>
    <inertial>
      <inertia ixx="0.28216" ixy="0.00029" ixz="0.00019" iyy="0.09091" iyz="-0.03166" izz="0.22118"/>
      <origin rpy="0.00000 0.00000 0.00000" xyz="1.61449 0.01137 -2.80674"/>
      <mass value="0.05000"/>
    </inertial>
    <visual name="l_upper_leg_outer">
      <origin rpy="-1.81578 -1.57080 1.81578" xyz="0.20410 0.00161 -0.21135"/>
      <geometry>
        <mesh filename="package://rmis/meshes/stl/l_upper_leg_joint.stl" scale="0.10000 0.10000 0.10000"/>
      </geometry>
    </visual>
  </link>
  <link name="l_upper_shoulder_link">
    <collision name="l_upper_shoulder_collision">
      <origin rpy="-0.00000 -0.00000 -0.00000" xyz="0.02125 -0.00108 -0.00165"/>
      <geometry>
        <mesh filename="package://rmis/meshes/stl/l_shoulder_joint.stl" scale="0.10000 0.10000 0.10000"/>
      </geometry>
    </collision>
    <inertial>
      <inertia ixx="0.07973" ixy="0.00003" ixz="0.00000" iyy="0.18690" iyz="-0.00000" izz="0.23547"/>
      <origin rpy="0.00000 0.00000 0.00000" xyz="0.21242 -0.01084 -0.01650"/>
      <mass value="0.05000"/>
    </inertial>
    <visual name="l_upper_shoulder">
      <origin rpy="-0.00000 0.00000 0.00000" xyz="0.02124 -0.00108 -0.00165"/>
      <geometry>
        <mesh filename="package://rmis/meshes/stl/l_shoulder_joint.stl" scale="0.10000 0.10000 0.10000"/>
      </geometry>
    </visual>
  </link>
  <link name="lidar_link">
    <collision name="lidar_collision">
      <origin rpy="0.00000 0.00000 -0.00000" xyz="-0.15388 0.00000 -0.00001"/>
      <geometry>
        <mesh filename="package://rmis/meshes/stl/TF_Luna.stl" scale="0.10000 0.10000 0.10000"/>
      </geometry>
    </collision>
    <inertial>
      <inertia ixx="0.05768" ixy="0.00012" ixz="-0.00062" iyy="0.02857" iyz="0.00006" izz="0.05022"/>
      <origin rpy="0.00000 0.00000 0.00000" xyz="-1.54987 0.01466 -0.04121"/>
      <mass value="0.05000"/>
    </inertial>
    <sensor name="tf_luna" type="lidar">
      <parent link="lidar_link"/>
      <ray>
        <scan>
          <horizontal>
            <samples>1</samples>
            <min_angle>0</min_angle>
            <max_angle>0.00000</max_angle>
          </horizontal>
          <vertical>
            <samples>1</samples>
            <min_angle>250</min_angle>
            <max_angle>250.00000</max_angle>
            <resolution>0.00000</resolution>
          </vertical>
        </scan>
        <range>
          <max>8.00000</max>
        </range>
      </ray>
    </sensor>
    <visual name="lidar">
      <origin rpy="0.00000 0.00000 0.00000" xyz="-0.15388 0.00000 -0.00000"/>
      <geometry>
        <mesh filename="package://rmis/meshes/stl/TF_Luna.stl" scale="0.10000 0.10000 0.10000"/>
      </geometry>
    </visual>
  </link>
  <link name="lower_body_link">
    <collision name="lower_body_collision">
      <origin rpy="0.00000 0.00000 -0.00000" xyz="-0.07498 -0.00000 0.12347"/>
      <geometry>
        <mesh filename="package://rmis/meshes/stl/lower_body_link.stl" scale="0.10000 0.10000 0.10000"/>
      </geometry>
    </collision>
    <inertial>
      <inertia ixx="1.03498" ixy="-0.00427" ixz="-0.00418" iyy="0.30934" iyz="-0.00367" izz="1.06913"/>
      <origin rpy="0.00000 0.00000 0.00000" xyz="0.45951 -0.12902 0.92811"/>
      <mass value="0.05000"/>
    </inertial>
    <visual name="lower_body">
      <origin rpy="-0.00000 0.00000 -0.00000" xyz="-0.07498 0.00000 0.12347"/>
      <geometry>
        <mesh filename="package://rmis/meshes/stl/lower_body_link.stl" scale="0.10000 0.10000 0.10000"/>
      </geometry>
    </visual>
  </link>
  <link name="neck_link">
    <collision name="neck_collision">
      <origin rpy="0.00000 0.00000 -0.00000" xyz="-0.29410 0.00000 -0.04091"/>
      <geometry>
        <mesh filename="package://rmis/meshes/stl/neck_joint.stl" scale="0.10000 0.10000 0.10000"/>
      </geometry>
    </collision>
    <inertial>
      <inertia ixx="0.10411" ixy="-0.00000" ixz="0.02435" iyy="0.11152" iyz="0.00000" izz="0.04042"/>
      <origin rpy="0.00000 0.00000 0.00000" xyz="-2.94095 0.00000 -0.40906"/>
      <mass value="0.05000"/>
    </inertial>
    <visual name="neck">
      <origin rpy="0.00000 0.00000 -0.00000" xyz="-0.29410 0.00000 -0.04091"/>
      <geometry>
        <mesh filename="package://rmis/meshes/stl/neck_joint.stl" scale="0.10000 0.10000 0.10000"/>
      </geometry>
    </visual>
  </link>
  <link name="r_feet_link">
    <collision name="r_feet_collision">
      <origin rpy="0.00000 0.00000 -0.00000" xyz="-0.07451 0.00000 0.11245"/>
      <geometry>
        <mesh filename="package://rmis/meshes/stl/r_feet_link.stl" scale="0.10000 0.10000 0.10000"/>
      </geometry>
    </collision>
    <inertial>
      <inertia ixx="0.37179" ixy="-0.00718" ixz="-0.00237" iyy="0.56463" iyz="0.00152" izz="0.80038"/>
      <origin rpy="0.00000 0.00000 0.00000" xyz="-0.74506 -0.00000 1.06002"/>
      <mass value="0.05000"/>
    </inertial>
    <visual name="r_feet">
      <origin rpy="-0.00000 0.00000 0.00000" xyz="-0.07451 0.00000 0.11244"/>
      <geometry>
        <mesh filename="package://rmis/meshes/stl/r_feet_link.stl" scale="0.10000 0.10000 0.10000"/>
      </geometry>
    </visual>
  </link>
  <link name="r_hand_link">
    <collision name="r_hand_collision">
      <origin rpy="0.00000 -0.00000 -0.00000" xyz="0.00010 -0.00004 0.00060"/>
      <geometry>
        <mesh filename="package://rmis/meshes/stl/r_hand_joint.stl" scale="0.10000 0.10000 0.10000"/>
      </geometry>
    </collision>
    <inertial>
      <inertia ixx="0.21883" ixy="-0.00005" ixz="0.00033" iyy="0.31074" iyz="0.05939" izz="0.16883"/>
      <origin rpy="0.00000 0.00000 0.00000" xyz="0.00003 0.00000 -0.00000"/>
      <mass value="0.05000"/>
    </inertial>
    <visual name="r_hand">
      <origin rpy="-0.00000 -0.00000 0.00000" xyz="0.00000 0.00000 -0.00001"/>
      <geometry>
        <mesh filename="package://rmis/meshes/stl/r_hand_joint.stl" scale="0.10000 0.10000 0.10000"/>
      </geometry>
    </visual>
  </link>
  <link name="r_lower_ankle_link">
    <collision name="r_lower_ankle_collision">
      <origin rpy="0.00000 1.57080 0.00000" xyz="-0.18122 0.00553 -0.25264"/>
      <geometry>
        <mesh filename="package://rmis/meshes/stl/r_ankle_joint.stl" scale="0.10000 0.10000 0.10000"/>
      </geometry>
    </collision>
    <inertial>
      <inertia ixx="0.23547" ixy="0.00000" ixz="-0.00000" iyy="0.07973" iyz="-0.00003" izz="0.18690"/>
      <origin rpy="0.00000 0.00000 0.00000" xyz="-1.81224 0.05529 -2.52645"/>
      <mass value="0.05000"/>
    </inertial>
    <visual name="r_lower_ankle">
      <origin rpy="1.44644 1.57080 1.44644" xyz="-0.18123 0.00553 -0.25265"/>
      <geometry>
        <mesh filename="package://rmis/meshes/stl/r_ankle_joint.stl" scale="0.10000 0.10000 0.10000"/>
      </geometry>
    </visual>
  </link>
  <link name="r_lower_arm_link">
    <collision name="r_lower_arm_collision">
      <origin rpy="-0.00000 -0.00000 0.00000" xyz="0.04373 -0.00037 -0.00018"/>
      <geometry>
        <mesh filename="package://rmis/meshes/stl/r_arm_link.stl" scale="0.10000 0.10000 0.10000"/>
      </geometry>
    </collision>
    <inertial>
      <inertia ixx="1.02059" ixy="0.01519" ixz="-0.00666" iyy="1.05629" iyz="0.04688" izz="0.16236"/>
      <origin rpy="0.00000 0.00000 0.00000" xyz="0.43294 0.00008 -0.00044"/>
      <mass value="0.05000"/>
    </inertial>
    <visual name="r_lower_arm">
      <origin rpy="-0.00000 0.00000 -0.00000" xyz="0.04329 0.00000 0.00000"/>
      <geometry>
        <mesh filename="package://rmis/meshes/stl/r_arm_link.stl" scale="0.10000 0.10000 0.10000"/>
      </geometry>
    </visual>
  </link>
  <link name="r_lower_arm_lower_link"/>
  <link name="r_lower_arm_upper_link"/>
  <link name="r_lower_body_link"/>
  <link name="r_lower_hip_link">
    <collision name="r_lower_hip_collision">
      <origin rpy="1.57080 0.00000 0.00000" xyz="-0.00049 0.16245 -0.28569"/>
      <geometry>
        <mesh filename="package://rmis/meshes/stl/r_hip_joint.stl" scale="0.10000 0.10000 0.10000"/>
      </geometry>
    </collision>
    <inertial>
      <inertia ixx="0.09070" ixy="-0.00001" ixz="0.03156" iyy="0.28217" iyz="0.00000" izz="0.22140"/>
      <origin rpy="0.00000 0.00000 0.00000" xyz="-0.00490 1.62450 -2.85692"/>
      <mass value="0.05000"/>
    </inertial>
    <visual name="r_lower_hip">
      <origin rpy="1.57080 -0.00000 0.00000" xyz="-0.00049 0.16245 -0.28569"/>
      <geometry>
        <mesh filename="package://rmis/meshes/stl/r_hip_joint.stl" scale="0.10000 0.10000 0.10000"/>
      </geometry>
    </visual>
  </link>
  <link name="r_lower_leg_inner_link">
    <collision name="r_lower_leg_inner_collision">
      <origin rpy="0.00000 -0.00000 -0.00000" xyz="-0.03171 -0.00166 -0.02979"/>
      <geometry>
        <mesh filename="package://rmis/meshes/stl/r_lower_leg_link.stl" scale="0.10000 0.10000 0.10000"/>
      </geometry>
    </collision>
    <inertial>
      <inertia ixx="0.36405" ixy="-0.00120" ixz="0.00013" iyy="0.09410" iyz="0.04544" izz="0.29049"/>
      <origin rpy="0.00000 0.00000 0.00000" xyz="-0.25026 -0.01220 -0.35379"/>
      <mass value="0.05000"/>
    </inertial>
    <visual name="r_lower_leg_inner">
      <origin rpy="-0.00000 0.00000 0.00000" xyz="-0.03165 -0.00166 -0.03008"/>
      <geometry>
        <mesh filename="package://rmis/meshes/stl/r_lower_leg_link.stl" scale="0.10000 0.10000 0.10000"/>
      </geometry>
    </visual>
  </link>
  <link name="r_lower_leg_outer_link">
    <collision name="r_lower_leg_outer_collision">
      <origin rpy="1.57080 1.57080 1.57080" xyz="-0.18126 0.00553 -0.25265"/>
      <geometry>
        <mesh filename="package://rmis/meshes/stl/r_lower_leg_joint.stl" scale="0.10000 0.10000 0.10000"/>
      </geometry>
    </collision>
    <inertial>
      <inertia ixx="0.23547" ixy="0.00000" ixz="-0.00000" iyy="0.07973" iyz="-0.00003" izz="0.18690"/>
      <origin rpy="0.00000 0.00000 0.00000" xyz="-1.81259 0.05530 -2.52645"/>
      <mass value="0.05000"/>
    </inertial>
    <visual name="r_lower_leg_outer">
      <origin rpy="1.57080 1.57080 1.57080" xyz="-0.18126 0.00553 -0.25265"/>
      <geometry>
        <mesh filename="package://rmis/meshes/stl/r_lower_leg_joint.stl" scale="0.10000 0.10000 0.10000"/>
      </geometry>
    </visual>
  </link>
  <link name="r_lower_shoulder_link">
    <collision name="r_lower_shoulder_collision">
      <origin rpy="-0.00000 -0.00000 -0.00000" xyz="-0.00000 -0.00000 0.12556"/>
      <geometry>
        <mesh filename="package://rmis/meshes/stl/r_shoulder_link.stl" scale="0.10000 0.10000 0.10000"/>
      </geometry>
    </collision>
  </link>
  <link name="r_lower_shoulder_lower_link"/>
  <link name="r_lower_shoulder_upper_link">
    <inertial>
      <inertia ixx="0.39984" ixy="-0.00420" ixz="-0.00292" iyy="0.46703" iyz="0.02155" izz="0.10487"/>
      <origin rpy="0.00000 0.00000 0.00000" xyz="-0.13272 3.85610 -2.82626"/>
      <mass value="0.05000"/>
    </inertial>
    <visual name="r_lower_shoulder">
      <origin rpy="1.57080 0.00000 0.00000" xyz="0.01117 0.34775 -0.27353"/>
      <geometry>
        <mesh filename="package://rmis/meshes/stl/r_shoulder_link.stl" scale="0.10000 0.10000 0.10000"/>
      </geometry>
    </visual>
  </link>
  <link name="r_upper_ankle_link">
    <collision name="r_upper_ankle_collision">
      <origin rpy="0.00000 -0.00000 -0.00000" xyz="-0.03171 -0.00166 0.04755"/>
      <geometry>
        <mesh filename="package://rmis/meshes/stl/r_ankle_link.stl" scale="0.10000 0.10000 0.10000"/>
      </geometry>
    </collision>
    <inertial>
      <inertia ixx="0.36405" ixy="-0.00120" ixz="0.00013" iyy="0.09410" iyz="0.04544" izz="0.29049"/>
      <origin rpy="0.00000 0.00000 0.00000" xyz="-0.25087 -0.01220 0.42255"/>
      <mass value="0.05000"/>
    </inertial>
    <visual name="r_upper_ankle">
      <origin rpy="-0.00000 0.00000 0.00000" xyz="-0.03171 -0.00166 0.04755"/>
      <geometry>
        <mesh filename="package://rmis/meshes/stl/r_ankle_link.stl" scale="0.10000 0.10000 0.10000"/>
      </geometry>
    </visual>
  </link>
  <link name="r_upper_arm_link">
    <collision name="r_upper_arm_collision">
      <origin rpy="0.00000 -0.00000 -0.00000" xyz="0.15373 0.03945 -0.00418"/>
      <geometry>
        <mesh filename="package://rmis/meshes/stl/r_arm_joint.stl" scale="0.10000 0.10000 0.10000"/>
      </geometry>
    </collision>
    <inertial>
      <inertia ixx="0.23547" ixy="-0.00000" ixz="-0.00000" iyy="0.07973" iyz="0.00003" izz="0.18690"/>
      <origin rpy="0.00000 0.00000 0.00000" xyz="1.53731 0.39454 -0.04178"/>
      <mass value="0.05000"/>
    </inertial>
    <visual name="r_upper_arm">
      <origin rpy="0.00000 -0.00000 -0.00000" xyz="0.15373 0.03945 -0.00418"/>
      <geometry>
        <mesh filename="package://rmis/meshes/stl/r_arm_joint.stl" scale="0.10000 0.10000 0.10000"/>
      </geometry>
    </visual>
  </link>
  <link name="r_upper_body_link"/>
  <link name="r_upper_hip_link">
    <collision name="r_upper_hip_collision">
      <origin rpy="0.00000 0.00000 -0.00000" xyz="0.00000 -0.00000 -0.02804"/>
      <geometry>
        <mesh filename="package://rmis/meshes/stl/r_hip_link.stl" scale="0.10000 0.10000 0.10000"/>
      </geometry>
    </collision>
    <visual name="r_upper_hip">
      <origin rpy="0.00000 0.00000 0.00000" xyz="0.00000 -0.00000 -0.02805"/>
      <geometry>
        <mesh filename="package://rmis/meshes/stl/r_hip_link.stl" scale="0.10000 0.10000 0.10000"/>
      </geometry>
    </visual>
  </link>
  <link name="r_upper_leg_inner_link">
    <collision name="r_upper_leg_inner_collision">
      <origin rpy="-0.00000 0.00000 -0.00000" xyz="0.02992 0.00000 -0.03300"/>
      <geometry>
        <mesh filename="package://rmis/meshes/stl/r_upper_leg_link.stl" scale="0.10000 0.10000 0.10000"/>
      </geometry>
    </collision>
    <inertial>
      <inertia ixx="0.14329" ixy="0.00504" ixz="-0.00147" iyy="0.09287" iyz="-0.01279" izz="0.18266"/>
      <origin rpy="0.00000 0.00000 0.00000" xyz="1.11499 -0.15547 0.28985"/>
      <mass value="0.05000"/>
    </inertial>
    <visual name="r_upper_leg_inner">
      <origin rpy="-0.00000 0.00000 -0.00000" xyz="0.02992 -0.00000 -0.03300"/>
      <geometry>
        <mesh filename="package://rmis/meshes/stl/r_upper_leg_link.stl" scale="0.10000 0.10000 0.10000"/>
      </geometry>
    </visual>
  </link>
  <link name="r_upper_leg_outer_link">
    <collision name="r_upper_leg_outer_collision">
      <origin rpy="-1.57079 1.57080 -1.57080" xyz="-0.20411 0.00479 -0.21364"/>
      <geometry>
        <mesh filename="package://rmis/meshes/stl/r_upper_leg_joint.stl" scale="0.10000 0.10000 0.10000"/>
      </geometry>
    </collision>
    <inertial>
      <inertia ixx="0.28227" ixy="0.00029" ixz="-0.00019" iyy="0.09090" iyz="0.03170" izz="0.22130"/>
      <origin rpy="0.00000 0.00000 0.00000" xyz="-1.61459 0.05261 -2.83045"/>
      <mass value="0.05000"/>
    </inertial>
    <visual name="r_upper_leg_outer">
      <origin rpy="1.57080 1.57080 1.57080" xyz="-0.20411 0.00479 -0.21364"/>
      <geometry>
        <mesh filename="package://rmis/meshes/stl/r_upper_leg_joint.stl" scale="0.10000 0.10000 0.10000"/>
      </geometry>
    </visual>
  </link>
  <link name="r_upper_shoulder_link">
    <collision name="r_upper_shoulder_collision">
      <origin rpy="0.00000 0.00000 -0.00000" xyz="-0.03319 -0.00117 0.00022"/>
      <geometry>
        <mesh filename="package://rmis/meshes/stl/r_shoulder_joint.stl" scale="0.10000 0.10000 0.10000"/>
      </geometry>
    </collision>
    <inertial>
      <inertia ixx="0.07973" ixy="0.00003" ixz="0.00000" iyy="0.18690" iyz="0.00000" izz="0.23547"/>
      <origin rpy="0.00000 0.00000 0.00000" xyz="-0.33190 -0.01173 0.00218"/>
      <mass value="0.05000"/>
    </inertial>
    <visual name="r_upper_shoulder">
      <origin rpy="0.00000 0.00000 0.00000" xyz="-0.03319 -0.00117 0.00022"/>
      <geometry>
        <mesh filename="package://rmis/meshes/stl/r_shoulder_joint.stl" scale="0.10000 0.10000 0.10000"/>
      </geometry>
    </visual>
  </link>
  <link name="u_upper_body_link"/>
</robot>
